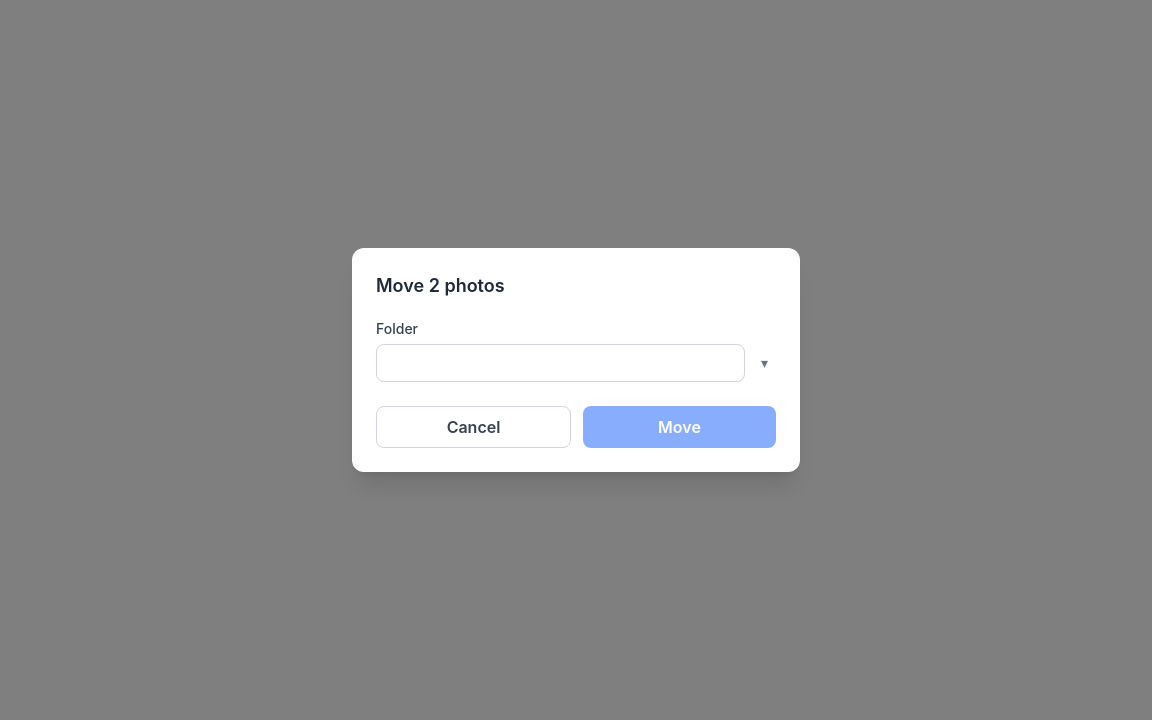
Test: MoveImagesModal › falls back to its own sentence when the failure carries none
The image size is (1152, 720).
Click the button with test id "album-picker-toggle". click: (764, 363)
box: [753,344,776,382]
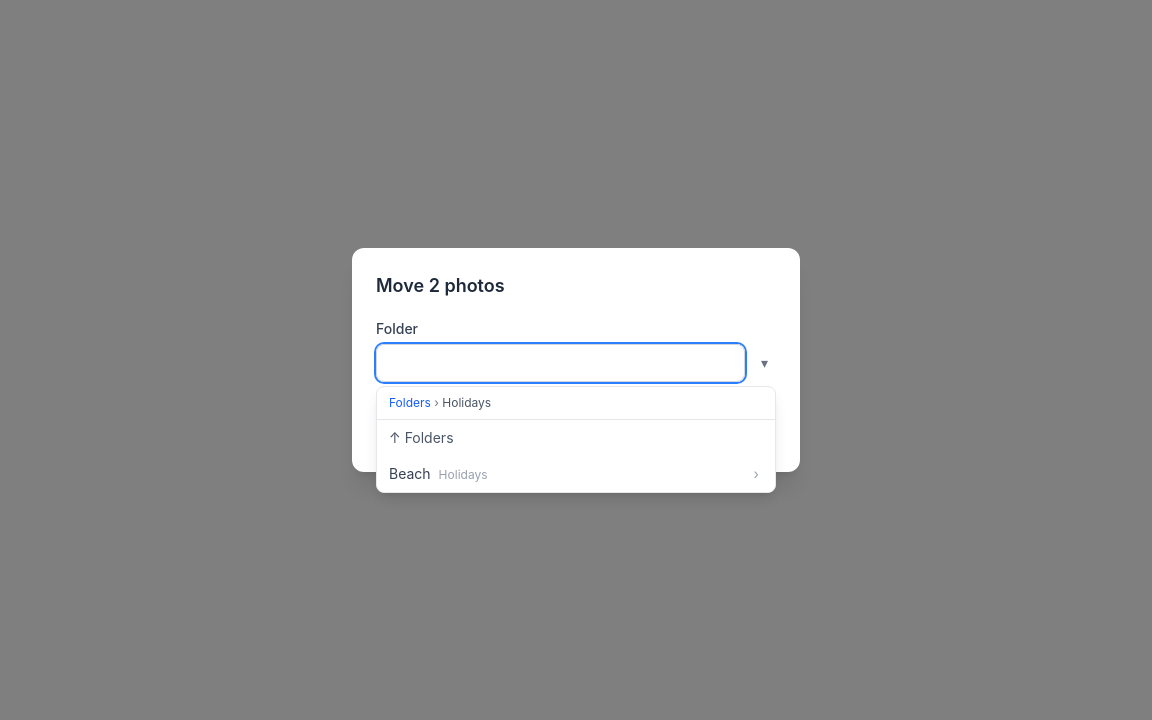
Click the text "Beach". click: (438, 474)
box: [389,464,488,484]
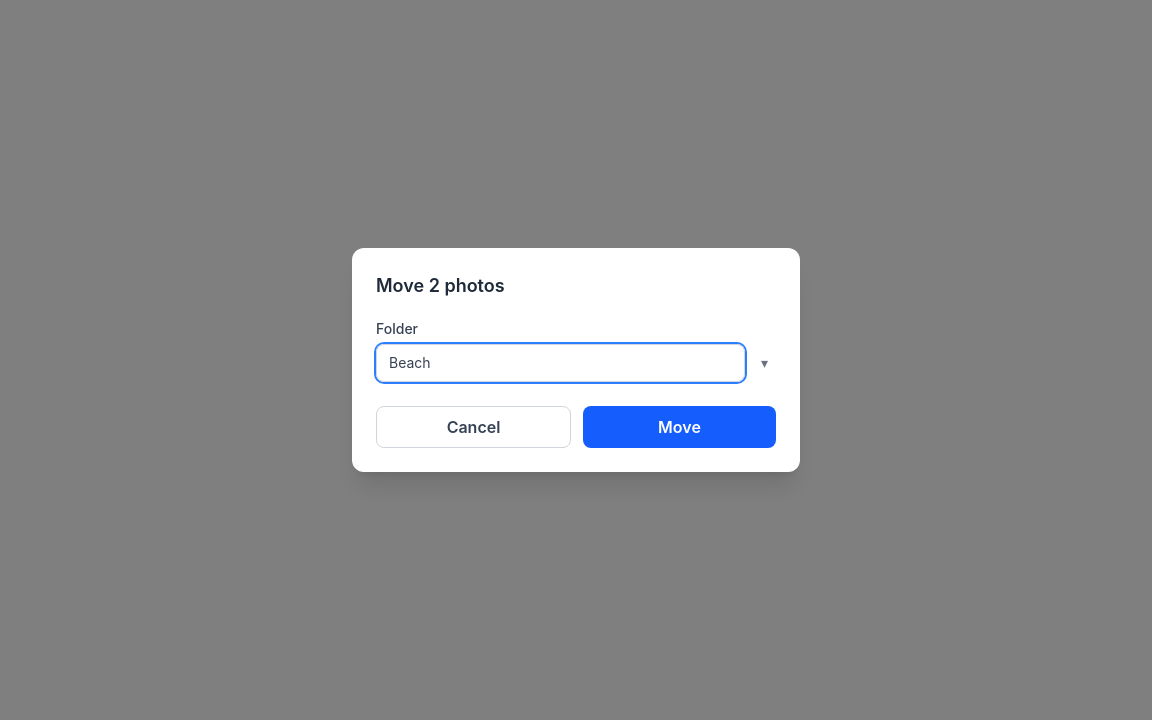
Click the button with test id "move-confirm-button". click: (680, 427)
box: [583,406,776,448]
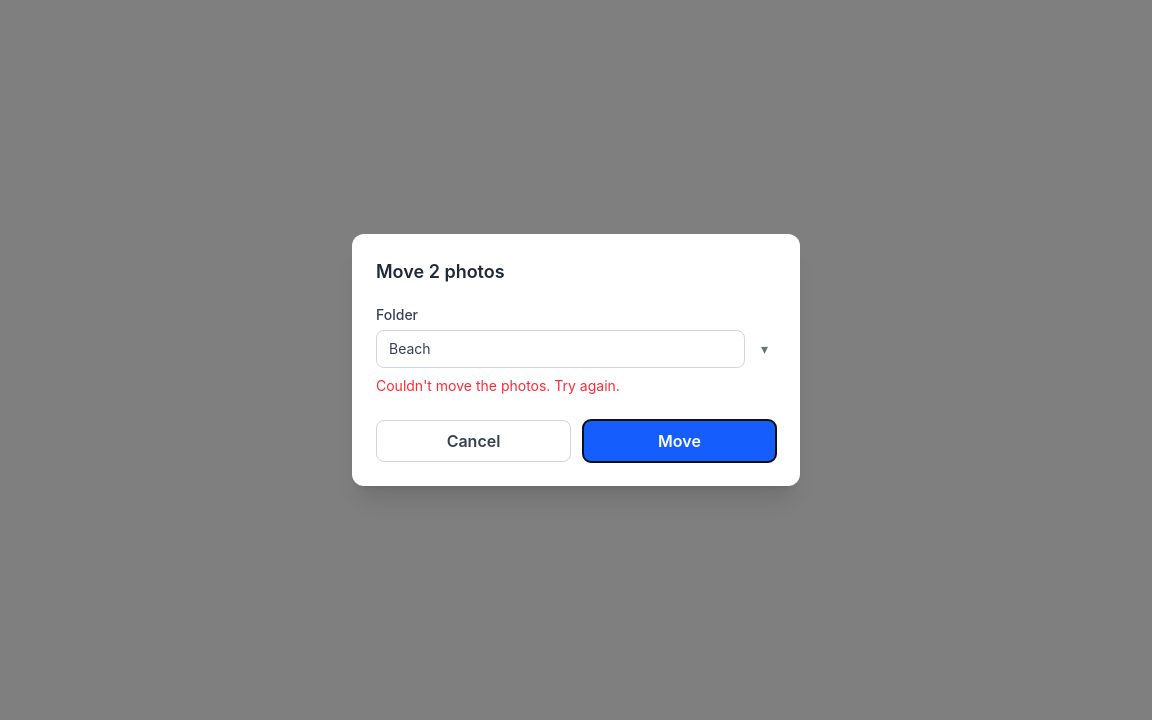
Expected: the text with test id "move-images-error" reads "Couldn't move the photos. Try again.", [376,377,620,394]
